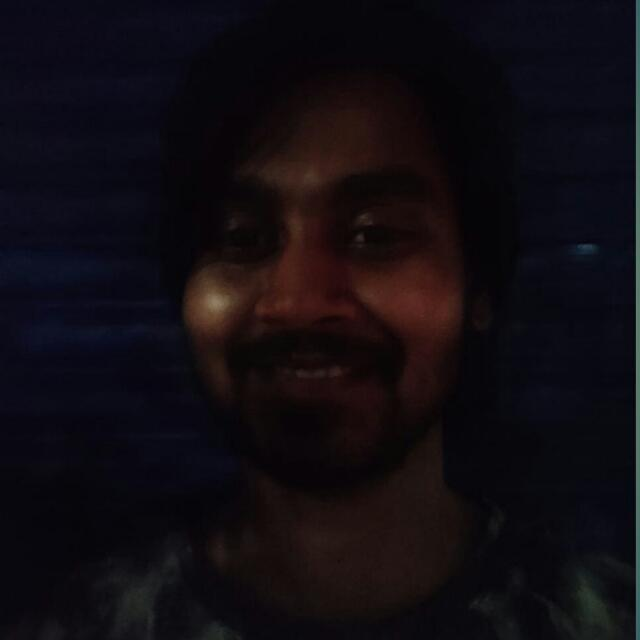Happy: (156, 117, 493, 507)
